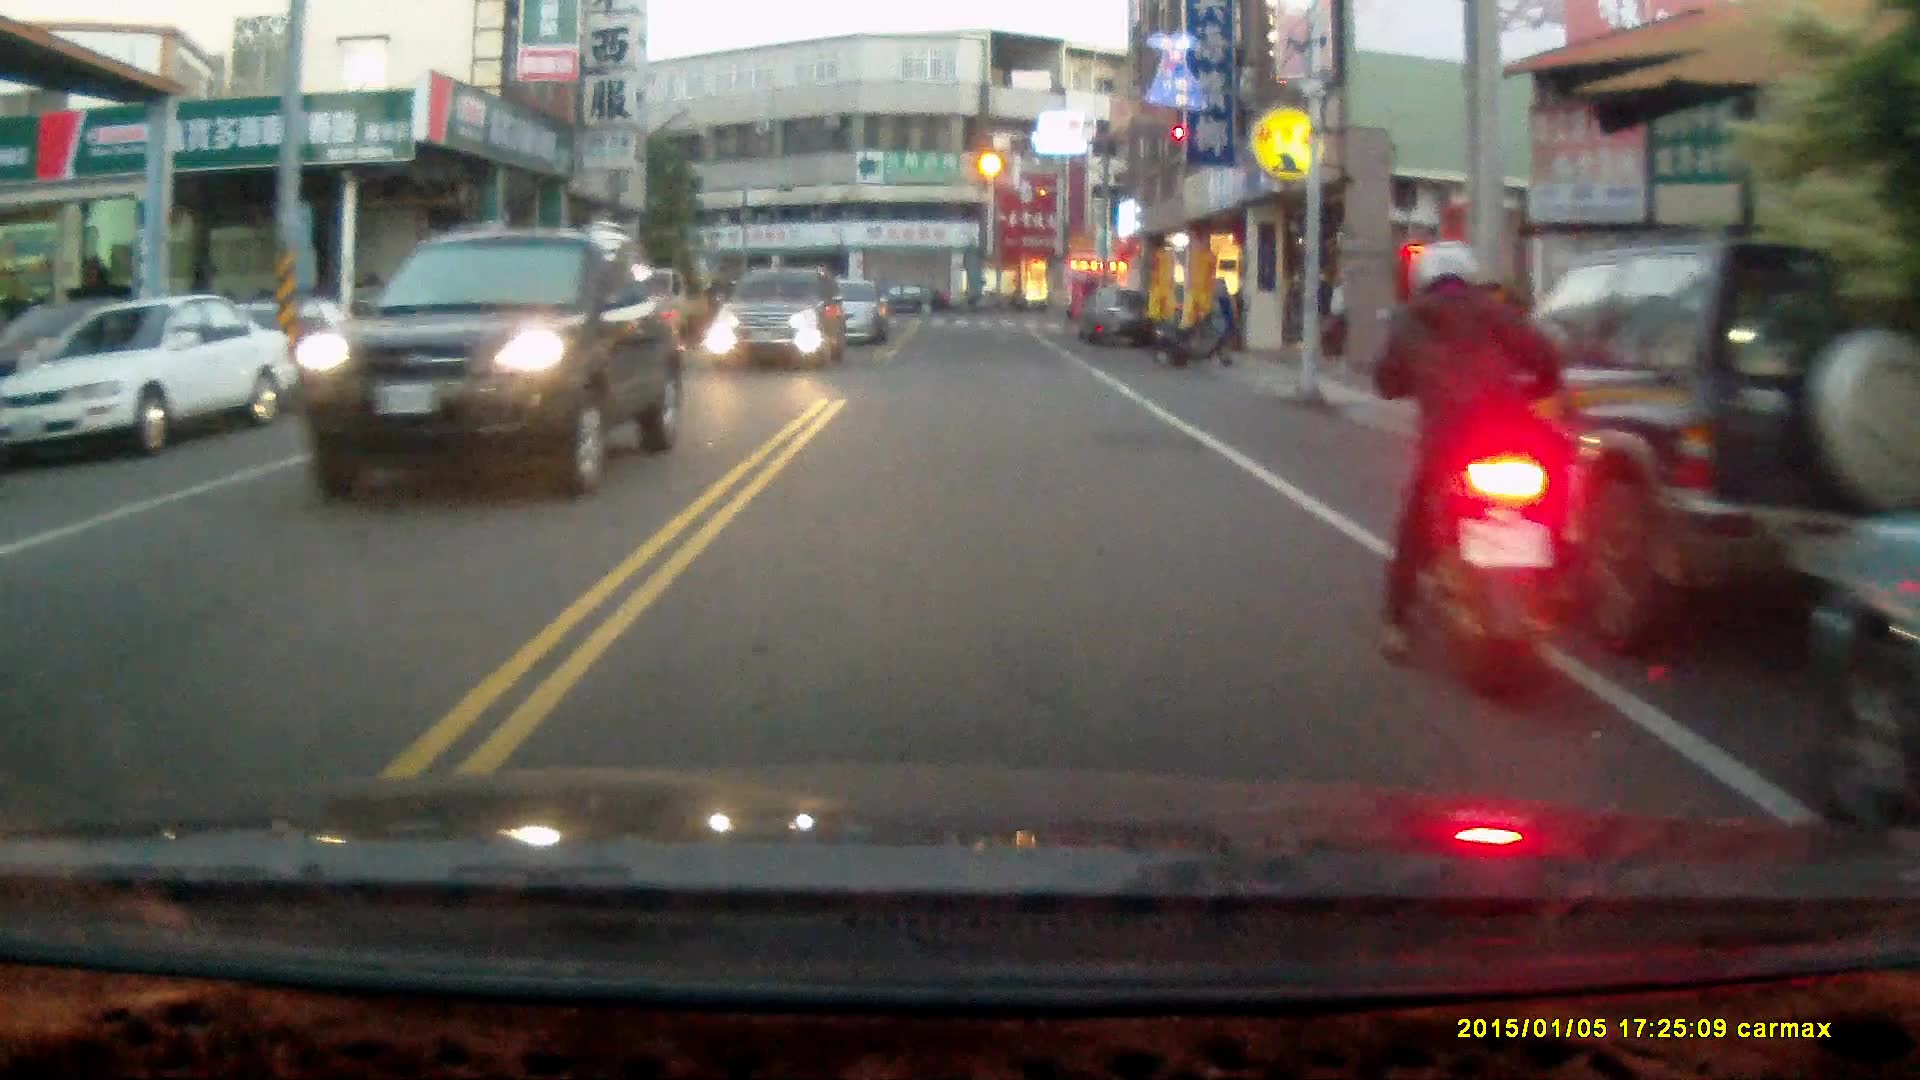rider: (1365, 235, 1596, 705)
vehicle: (1437, 237, 1920, 648), (294, 229, 670, 506), (3, 295, 301, 462), (710, 268, 852, 372), (1080, 286, 1153, 348)
